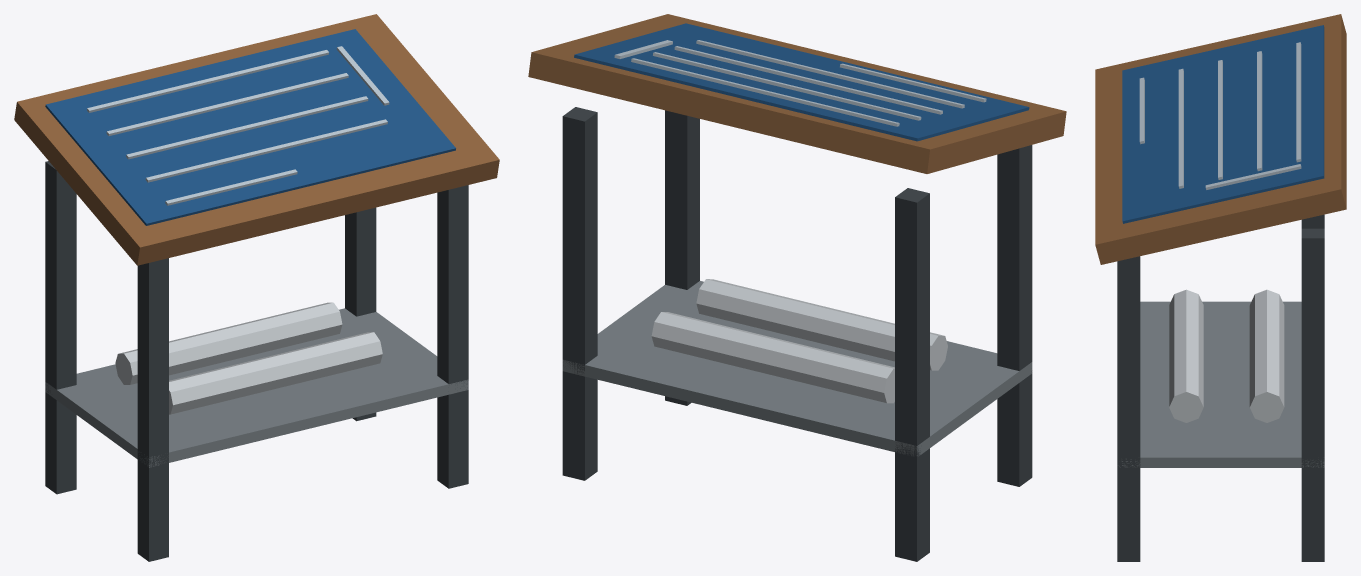
File: w-blueprint-table.glb
3 renders of one model, left to right at view 1: azimuth 30°, elevation 25°; view 2: azimuth 150°, elevation 25°; view 3: azimuth 270°, elevation 25°, orthographic. The views are drawn at different scales.
Parts seen in each view (by area): view 1: w-blueprint-table; view 2: w-blueprint-table; view 3: w-blueprint-table.
Boxes of the visible parts, bbox=[...] form: w-blueprint-table: bbox=[14, 14, 499, 561]; w-blueprint-table: bbox=[528, 14, 1066, 561]; w-blueprint-table: bbox=[1095, 14, 1346, 561].
Bounding box in the file's own units: 0.72 × 0.7326 × 0.4366.
